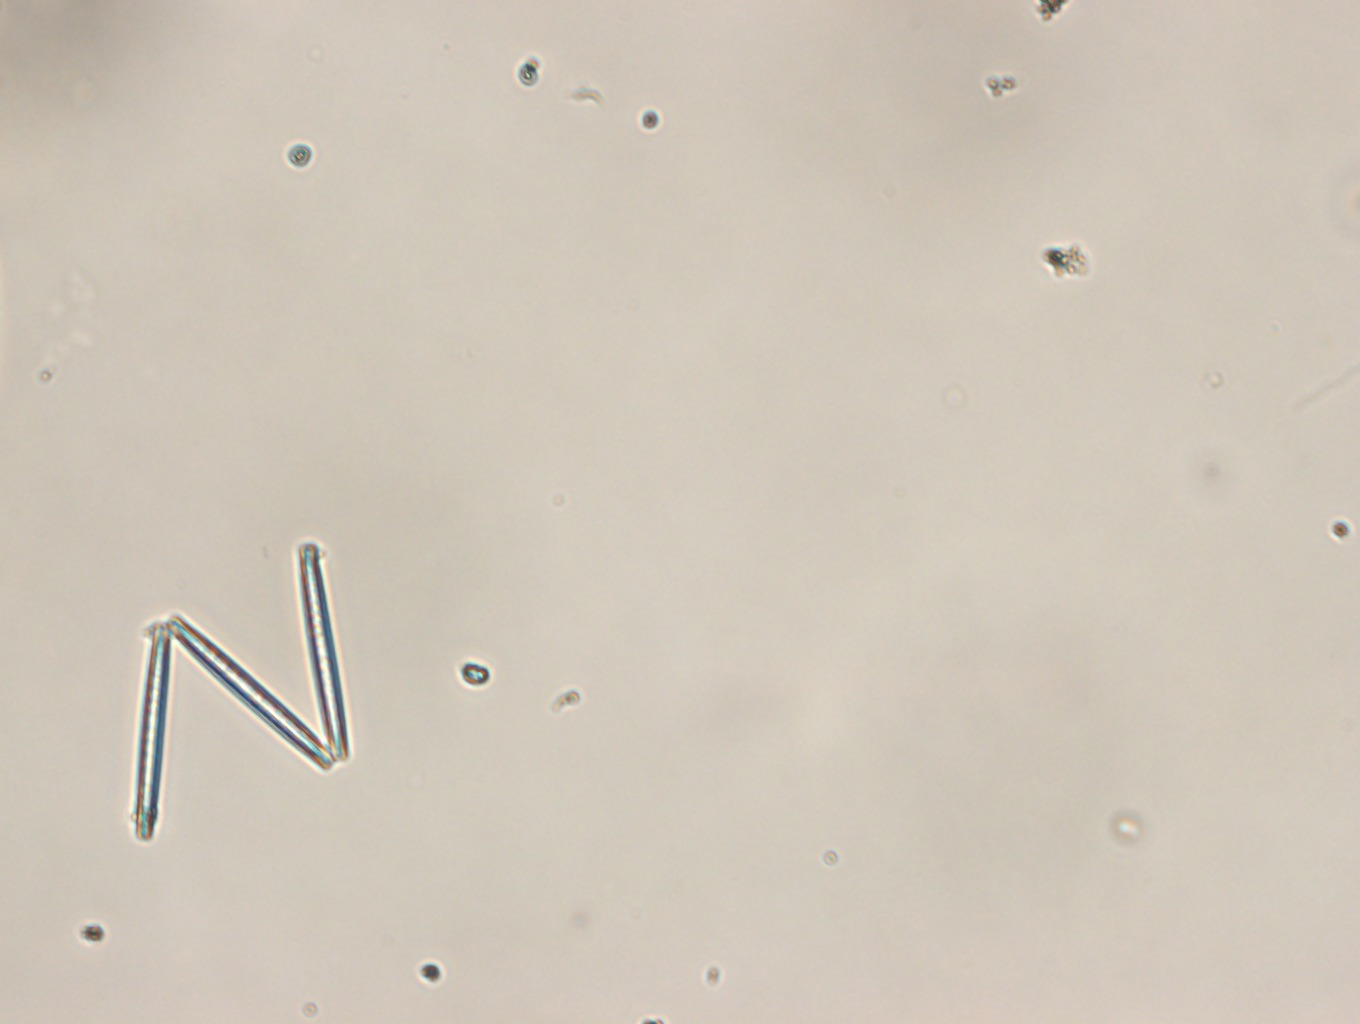thalassionema nitzschioides: (131, 539, 348, 845)
